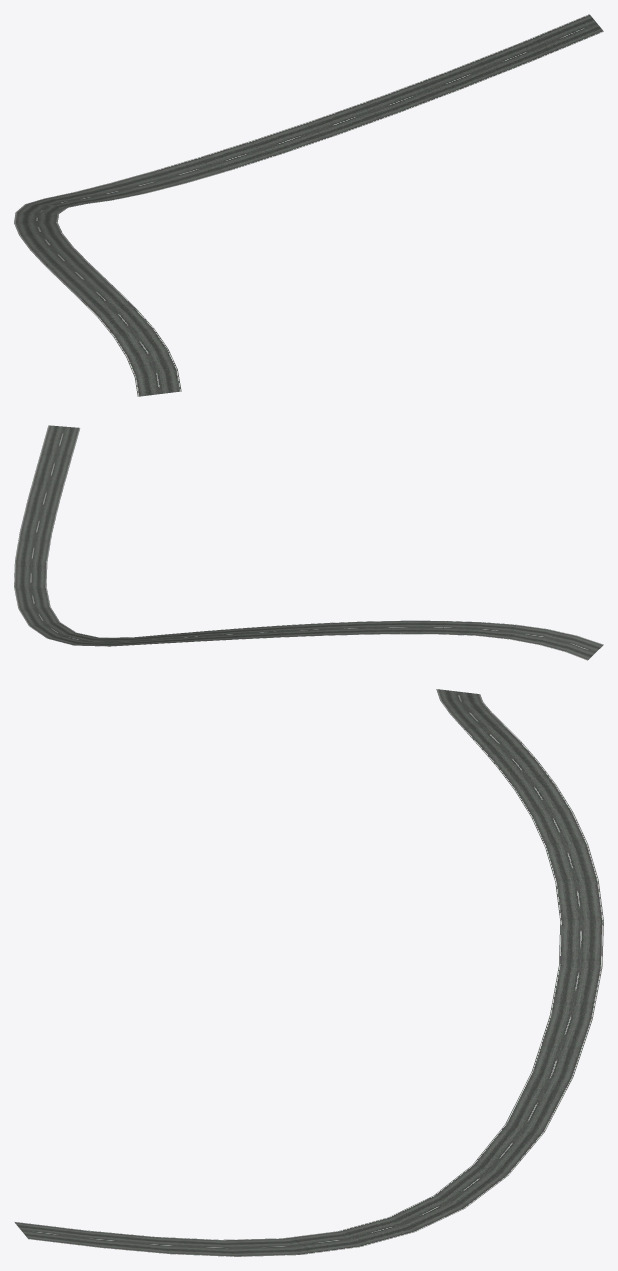
Rendered from lodcuntwroad09.obj.
The picture shows the model from 3 angles, top to bottom: view 1: azimuth 90°, elevation 25°; view 2: azimuth 150°, elevation 25°; view 3: azimuth 270°, elevation 25°; orthographic projection. The views are drawn at different scales.
Visible parts, largest first — view 1: LODcuntwroad09; view 2: LODcuntwroad09; view 3: LODcuntwroad09.
Boxes of the visible parts, left/top/right/bottom form: LODcuntwroad09: left=14, top=14, right=603, bottom=396; LODcuntwroad09: left=14, top=425, right=603, bottom=660; LODcuntwroad09: left=14, top=689, right=603, bottom=1256.
Bounding box in the file's own units: 301 × 50.08 × 162.
1 material, 1 textured.
